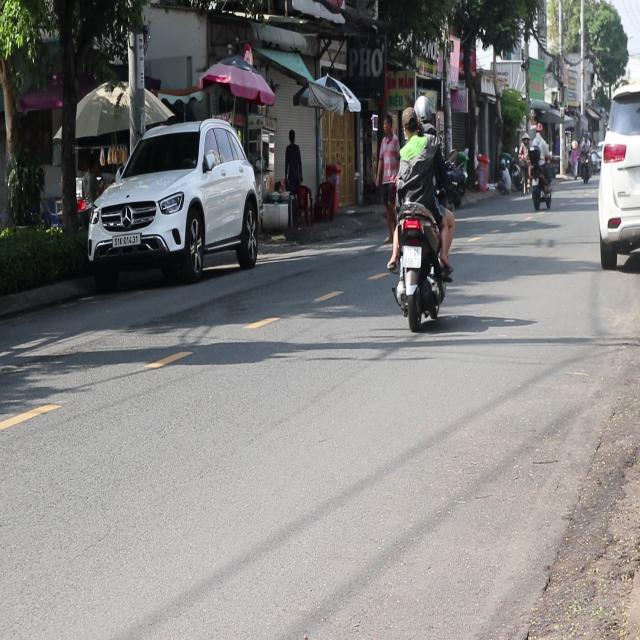helmet: (413, 94, 434, 132)
licenseplate: (385, 90, 455, 330)
motorcyclist: (400, 104, 418, 140)
nohelmet: (403, 245, 421, 267)
